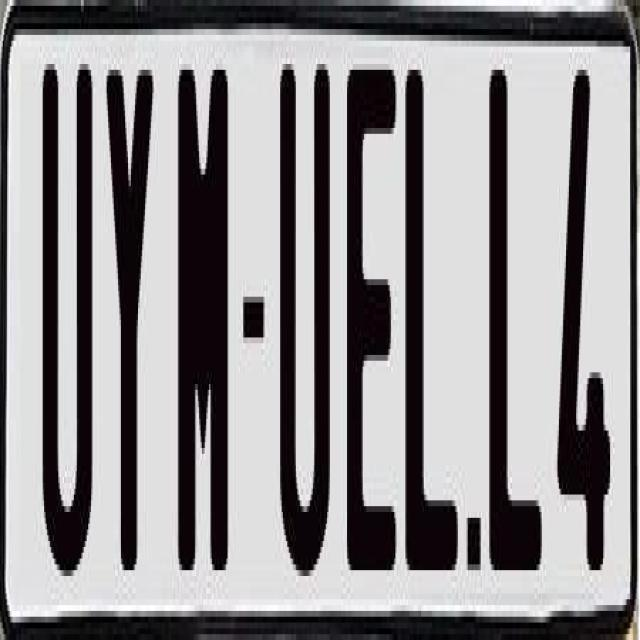4: (558, 70, 612, 588)
E: (347, 52, 398, 564)
L: (485, 58, 545, 576), (401, 64, 462, 570)
M: (173, 70, 230, 588)
U: (276, 58, 332, 599), (42, 64, 96, 605)
Y: (104, 70, 156, 588)
